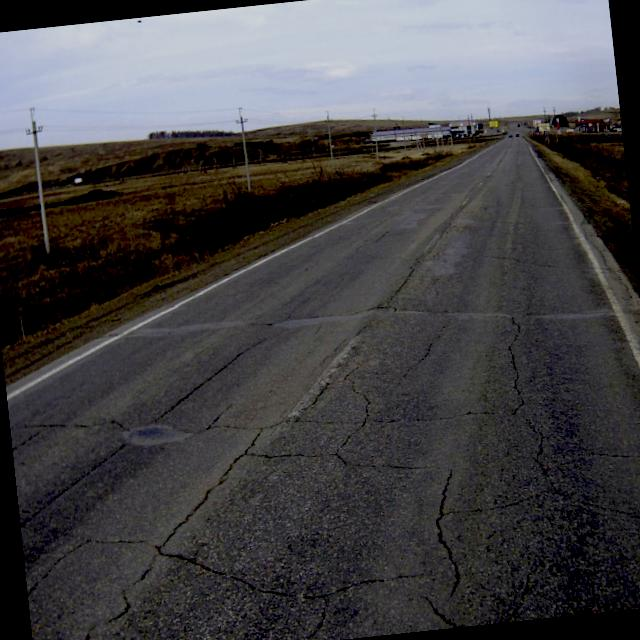road: (6, 134, 640, 640)
